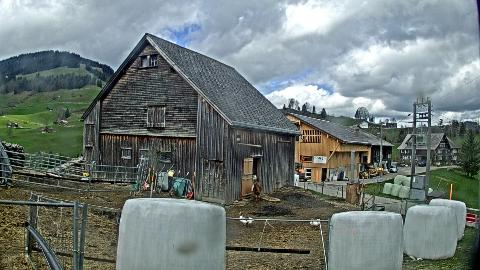car: (388, 165, 398, 173), (418, 161, 426, 167)
sheep: (252, 179, 262, 203), (252, 176, 258, 192)
